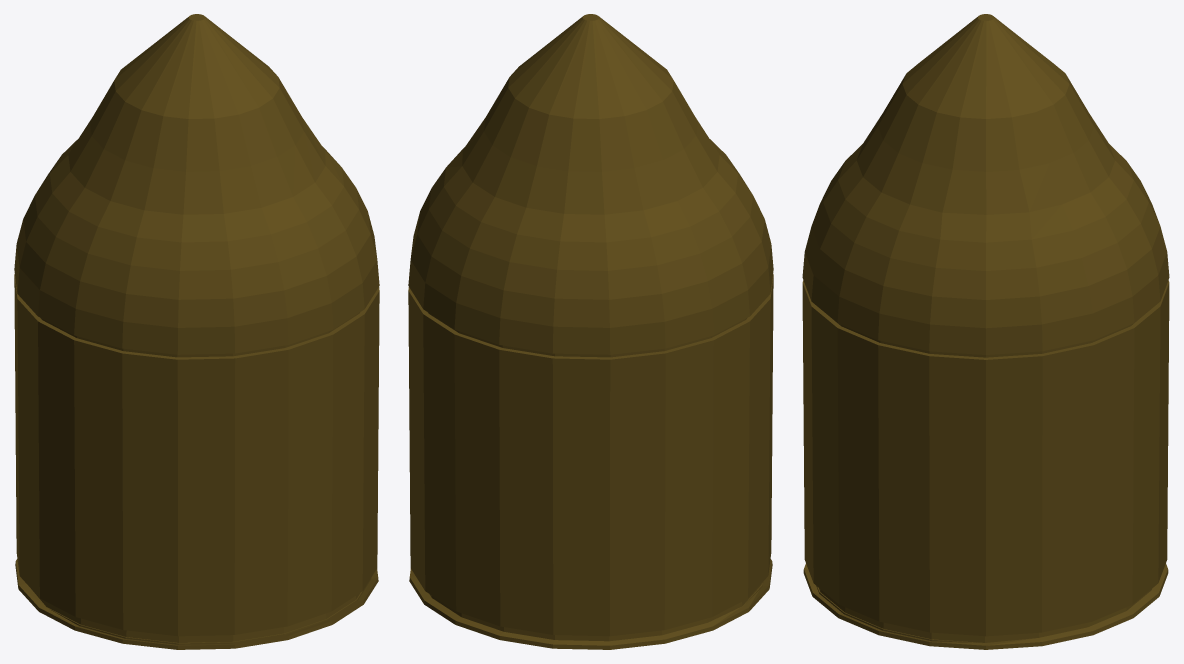
Rendered from MissileRainBullet.fbx.
3 views of the same model, side by side, from view 1: azimuth 30°, elevation 25°; view 2: azimuth 150°, elevation 25°; view 3: azimuth 270°, elevation 25° (orthographic).
Visible parts, largest first — view 1: pSphere1; view 2: pSphere1; view 3: pSphere1.
Part boxes in pixels (x1=…): pSphere1: x1=14, y1=14, x2=379, y2=649; pSphere1: x1=408, y1=14, x2=773, y2=649; pSphere1: x1=802, y1=14, x2=1169, y2=649.
Bounding box in the file's own units: 2.01 × 3.39 × 2.01.
